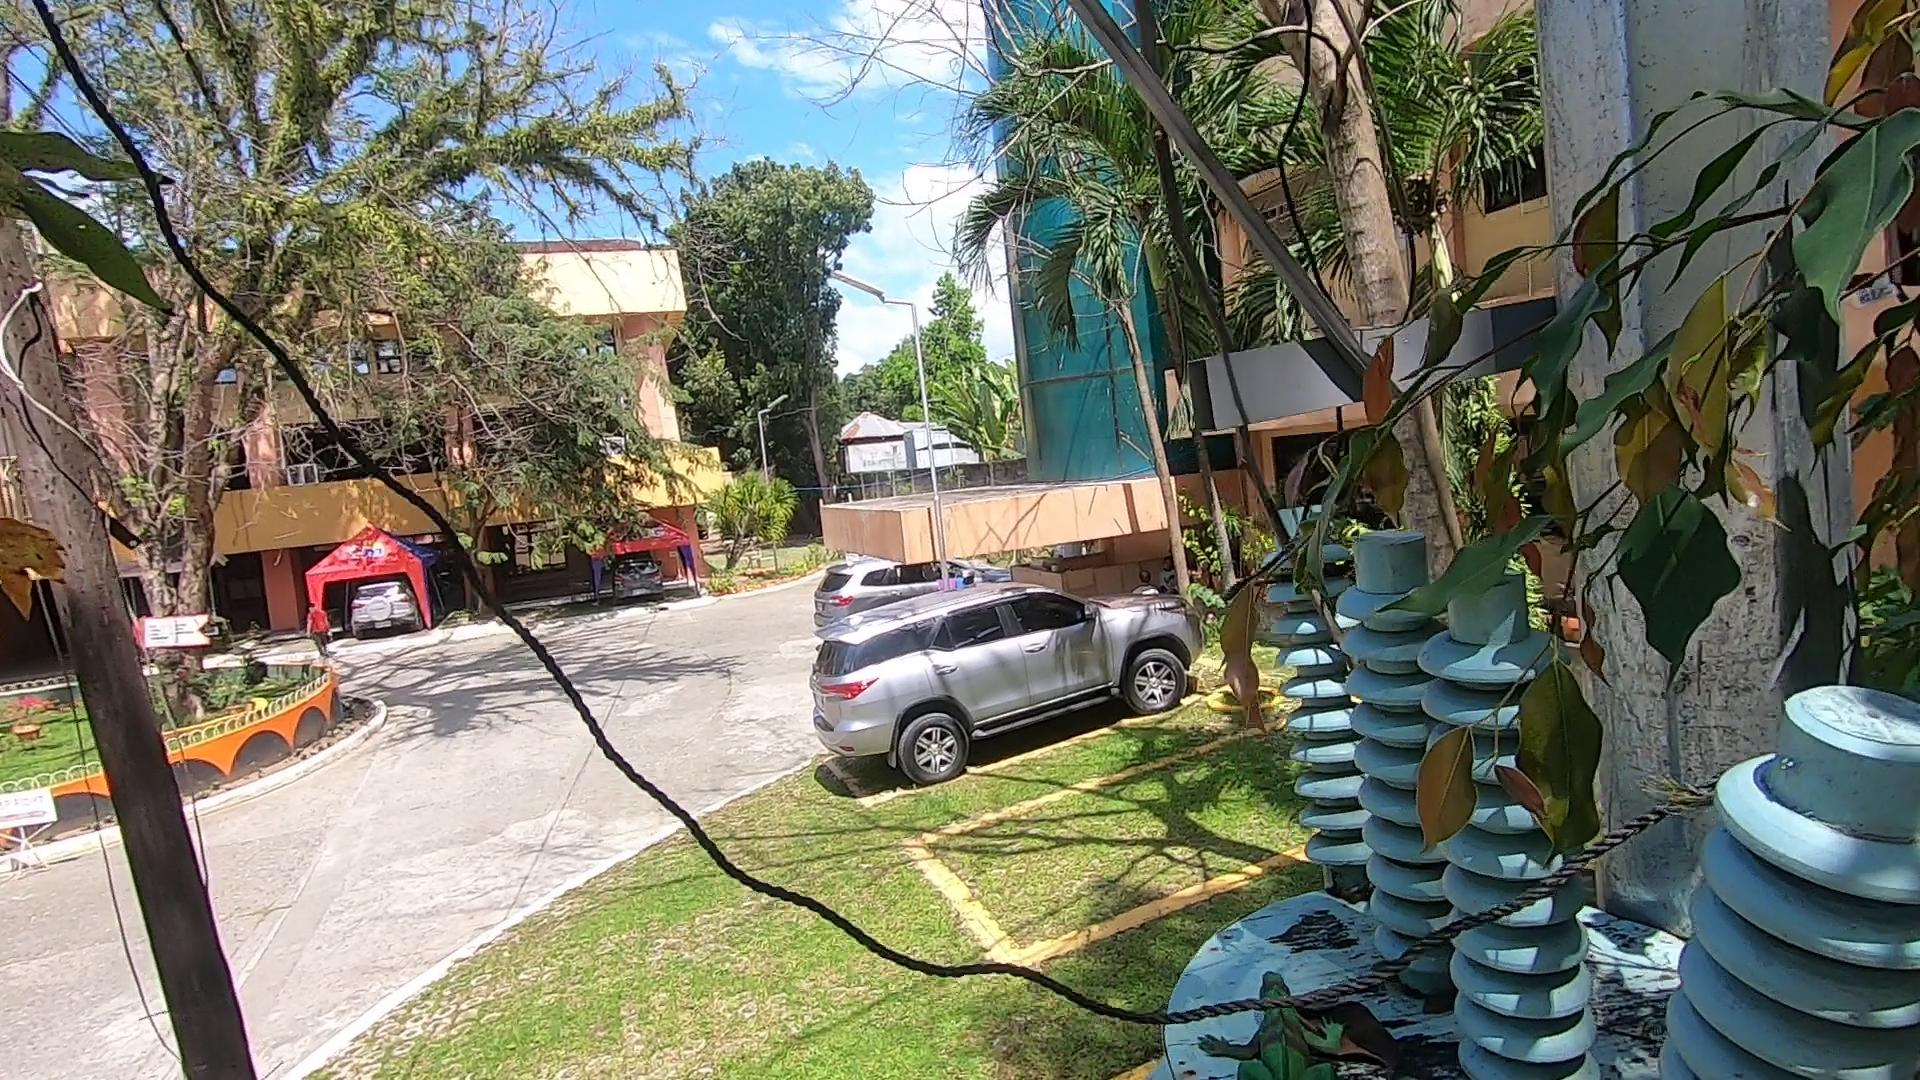branch with leaves: (1245, 225, 1753, 858)
tree branch: (1110, 5, 1327, 582)
